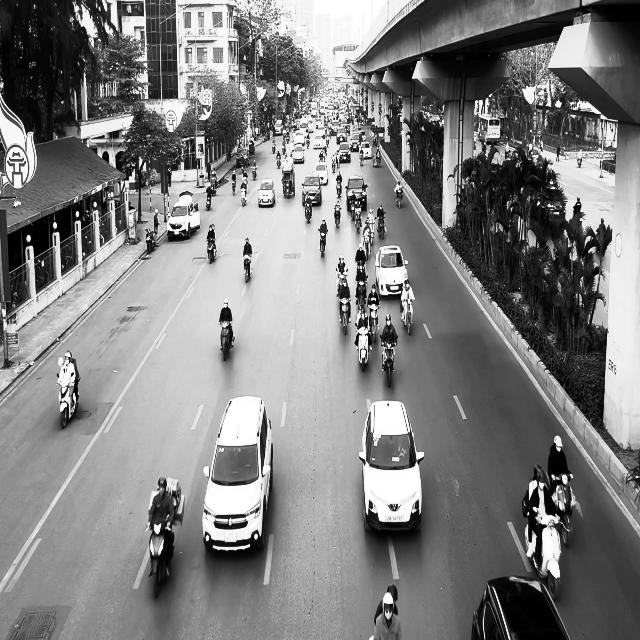car: (202, 395, 274, 553), (358, 399, 424, 534), (471, 575, 571, 639), (375, 245, 408, 297), (167, 198, 200, 240), (345, 175, 368, 211), (301, 172, 322, 205), (258, 179, 276, 207)
motorbike: (524, 509, 562, 600), (148, 522, 175, 598), (550, 472, 574, 546), (56, 375, 80, 429), (354, 322, 372, 371), (380, 337, 397, 388), (219, 320, 235, 361), (400, 295, 414, 335), (367, 301, 380, 343), (338, 295, 351, 336), (206, 237, 216, 264), (318, 227, 327, 257), (243, 253, 252, 282), (145, 228, 155, 253), (304, 194, 312, 223), (394, 186, 403, 208), (240, 183, 248, 206), (334, 203, 341, 228), (206, 190, 212, 210)
